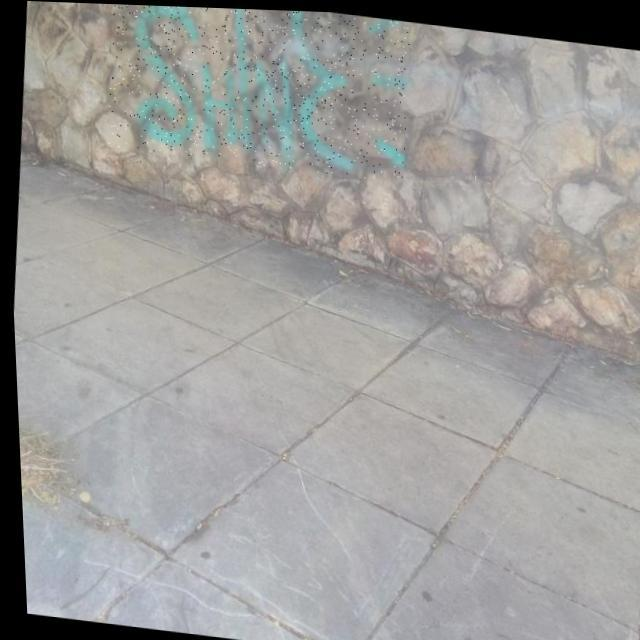-: (100, 3, 415, 180)
